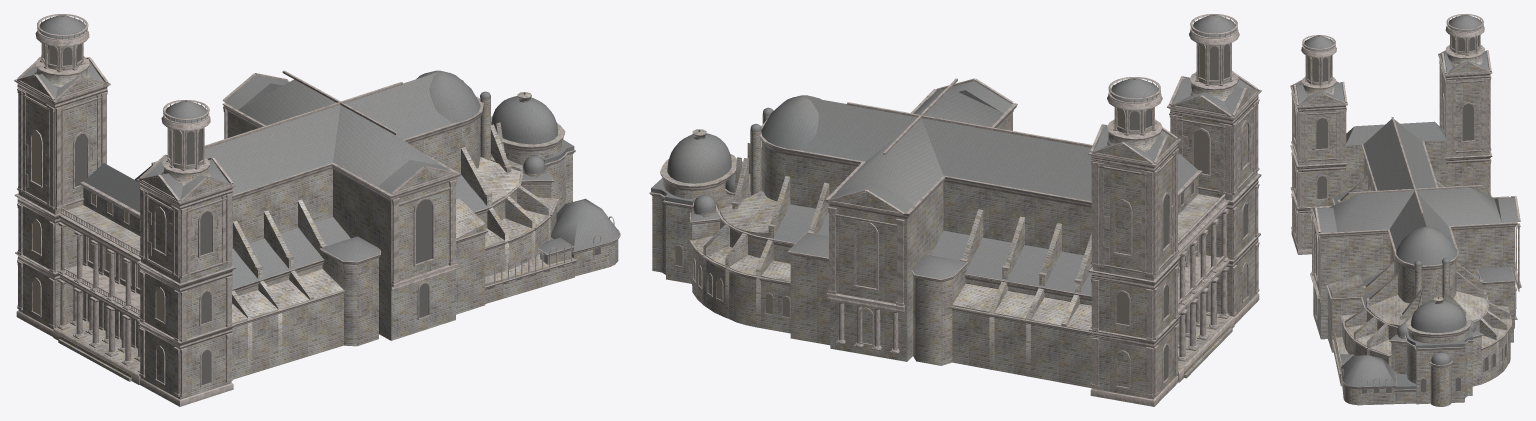
The model's file is saint-sulpice.glb.
The picture shows the model from 3 angles, left to right: view 1: azimuth 30°, elevation 25°; view 2: azimuth 150°, elevation 25°; view 3: azimuth 270°, elevation 25°; orthographic projection. The views are drawn at different scales.
Visible parts, largest first — view 1: stone, trim, roof, window; view 2: stone, trim, roof, window; view 3: stone, roof, trim, window.
Boxes of the visible parts, <box> form: stone: <box>18,45,618,399</box>; trim: <box>14,14,620,406</box>; roof: <box>22,15,619,288</box>; window: <box>32,43,600,384</box>; stone: <box>652,43,1257,399</box>; trim: <box>649,14,1261,406</box>; roof: <box>651,14,1252,295</box>; window: <box>675,44,1247,380</box>; stone: <box>1292,36,1514,406</box>; roof: <box>1296,15,1518,389</box>; trim: <box>1290,14,1521,394</box>; window: <box>1295,35,1506,393</box>.
Bounding box in the file's own units: 126 × 70.3 × 67.05.
5 materials, 5 textured.
